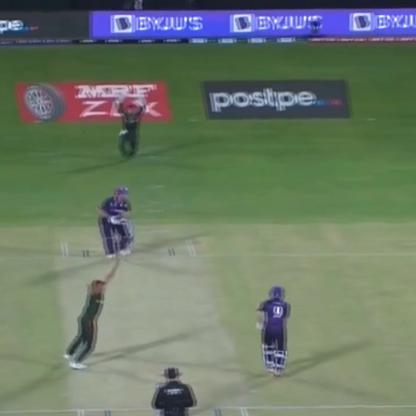pitch: (50, 238, 248, 415)
